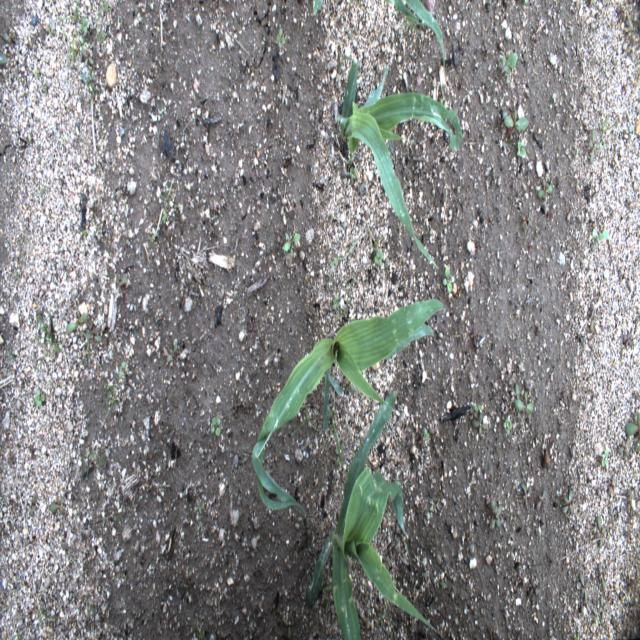crop: (251, 298, 446, 518), (306, 390, 439, 638), (339, 58, 462, 269), (312, 0, 445, 69)
weed: (35, 314, 61, 356), (515, 382, 534, 420), (501, 109, 529, 133), (488, 502, 506, 533), (624, 410, 640, 442), (66, 311, 88, 334), (48, 493, 68, 518), (588, 128, 601, 164), (472, 411, 488, 439), (500, 52, 518, 75), (442, 263, 454, 296), (578, 572, 590, 604), (34, 70, 50, 94), (283, 232, 301, 252), (536, 178, 554, 198), (596, 515, 606, 549), (562, 487, 574, 514), (165, 338, 177, 365), (591, 226, 611, 242), (371, 246, 385, 268), (616, 436, 631, 456), (210, 414, 221, 439), (80, 49, 94, 68), (274, 28, 286, 50), (599, 592, 608, 620), (502, 417, 514, 438), (598, 560, 606, 590), (515, 139, 527, 159), (33, 388, 46, 406), (29, 493, 38, 519), (535, 490, 546, 511), (521, 484, 531, 507), (114, 275, 126, 294), (107, 384, 116, 408), (85, 330, 103, 342), (622, 331, 634, 349), (284, 615, 293, 638), (74, 4, 83, 27), (601, 447, 610, 469), (332, 292, 341, 312), (118, 360, 126, 380), (80, 17, 89, 34), (161, 206, 169, 225), (349, 164, 358, 180), (469, 406, 480, 418), (590, 308, 596, 330), (471, 405, 482, 415), (422, 430, 430, 441), (593, 615, 599, 629), (49, 26, 55, 39), (439, 579, 445, 591), (572, 632, 580, 640)
